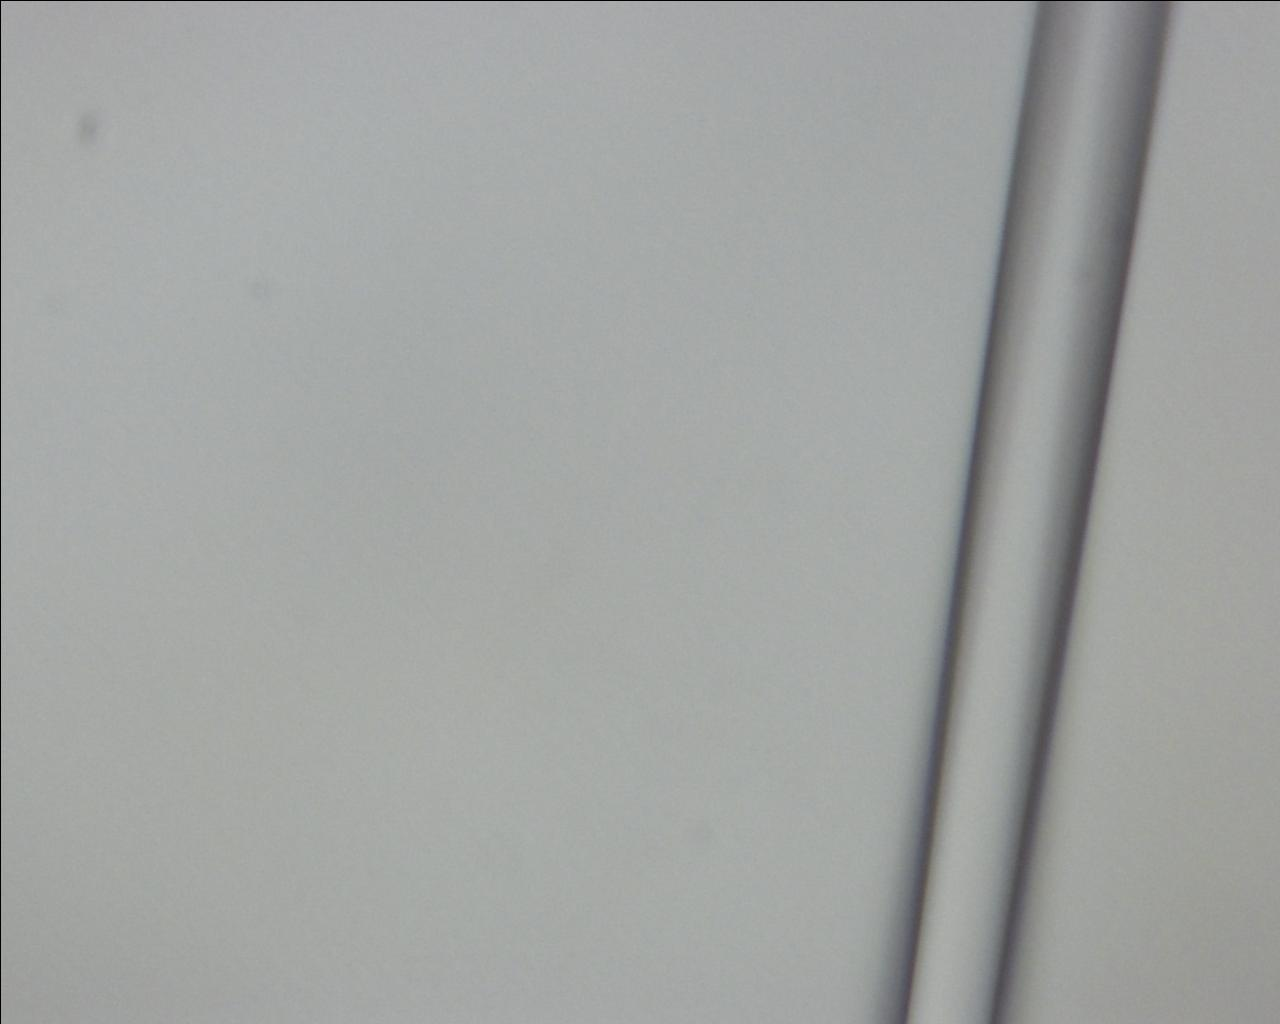fiber: (128, 813, 1152, 922)
